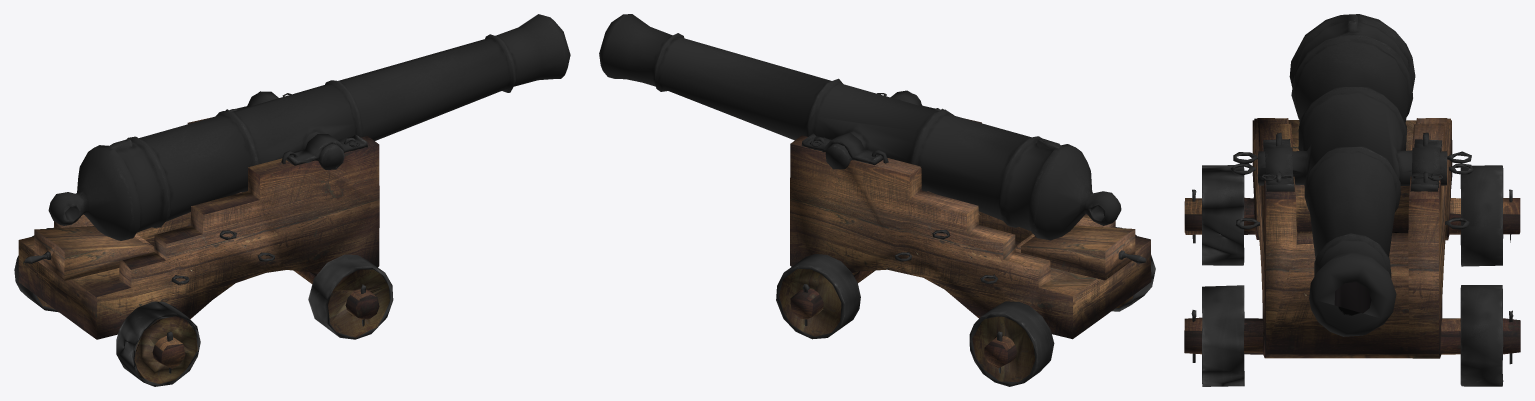
The model's file is Cannon.gltf.
3 renders of one model, left to right at view 1: azimuth 30°, elevation 25°; view 2: azimuth 150°, elevation 25°; view 3: azimuth 270°, elevation 25°, orthographic. The views are drawn at different scales.
Visible parts, largest first — view 1: Cannon; view 2: Cannon; view 3: Cannon.
Part boxes in pixels (box(x1,y1,x2,y2)): Cannon: box(14, 14, 570, 386); Cannon: box(599, 14, 1155, 386); Cannon: box(1184, 14, 1520, 386).
Bounding box in the file's own units: 178 × 69.83 × 75.88.
3 materials, 3 textured.
